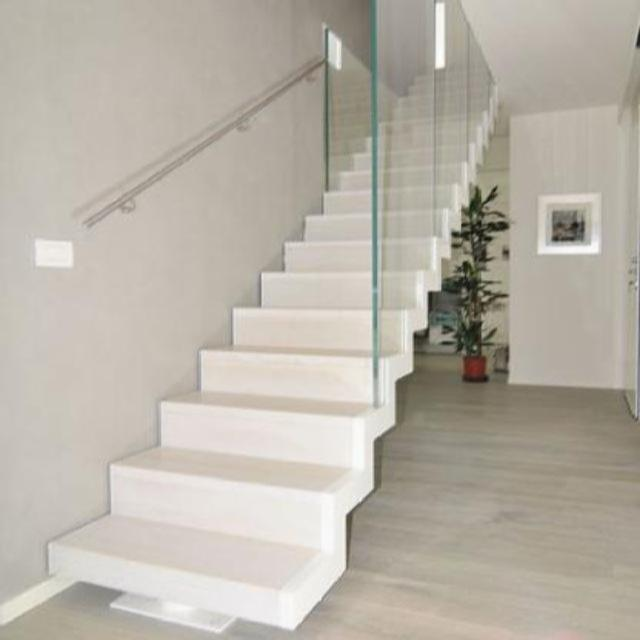stair: (16, 48, 510, 610)
